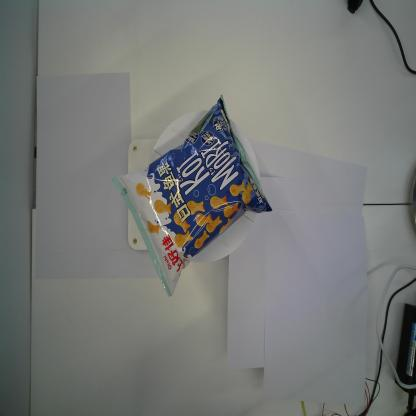Puffed Food: (112, 93, 273, 298)
